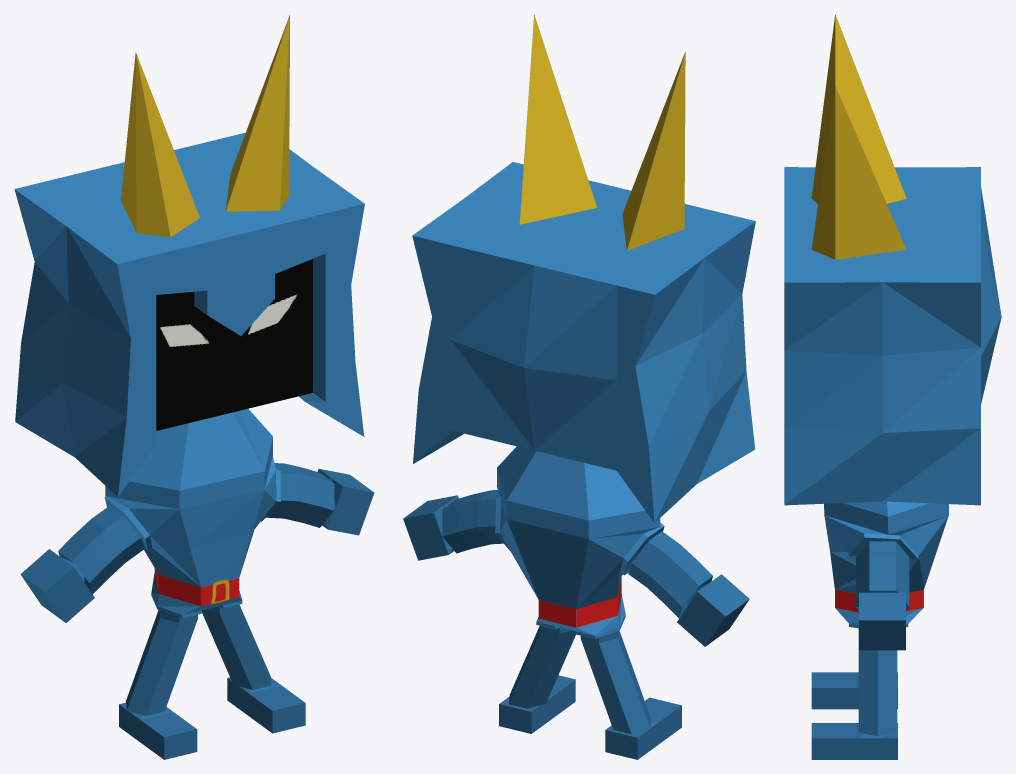
Rendered from CaballeroOscuro.fbx.
3 views of the same model, side by side, from view 1: azimuth 30°, elevation 25°; view 2: azimuth 150°, elevation 25°; view 3: azimuth 270°, elevation 25° (orthographic). The views are drawn at different scales.
Visible parts, largest first — view 1: pCube9; view 2: pCube9; view 3: pCube9.
Boxes of the visible parts, x1,y1,x2,y2 form: pCube9: (14,15,374,759); pCube9: (403,14,755,759); pCube9: (784,15,1001,759).
Bounding box in the file's own units: 15.24 × 31.11 × 9.11.
Materials: 3 (2 with a texture image).
